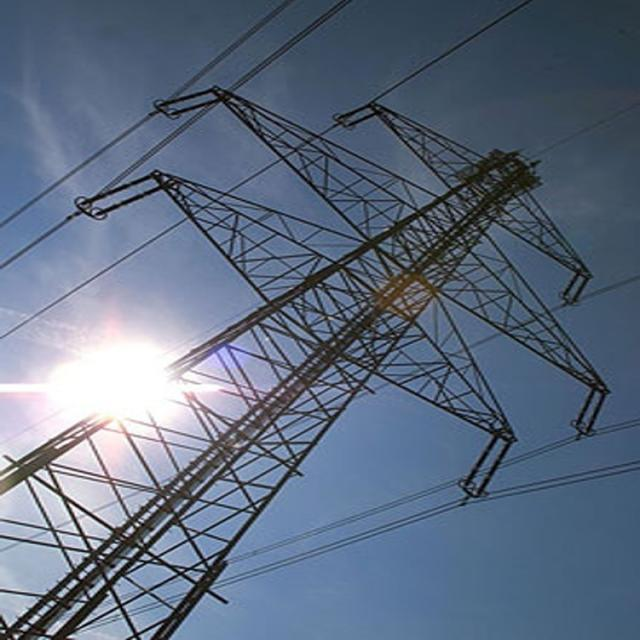non-critical vegetation: (9, 132, 552, 634)
